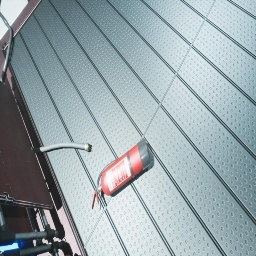FireExtinguisher ]: (92, 138, 151, 210)
